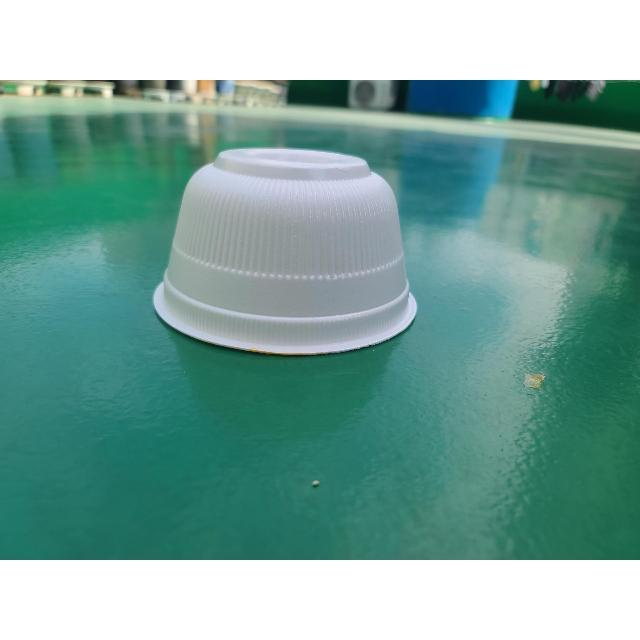Recipiente plastico: (154, 149, 416, 354)
